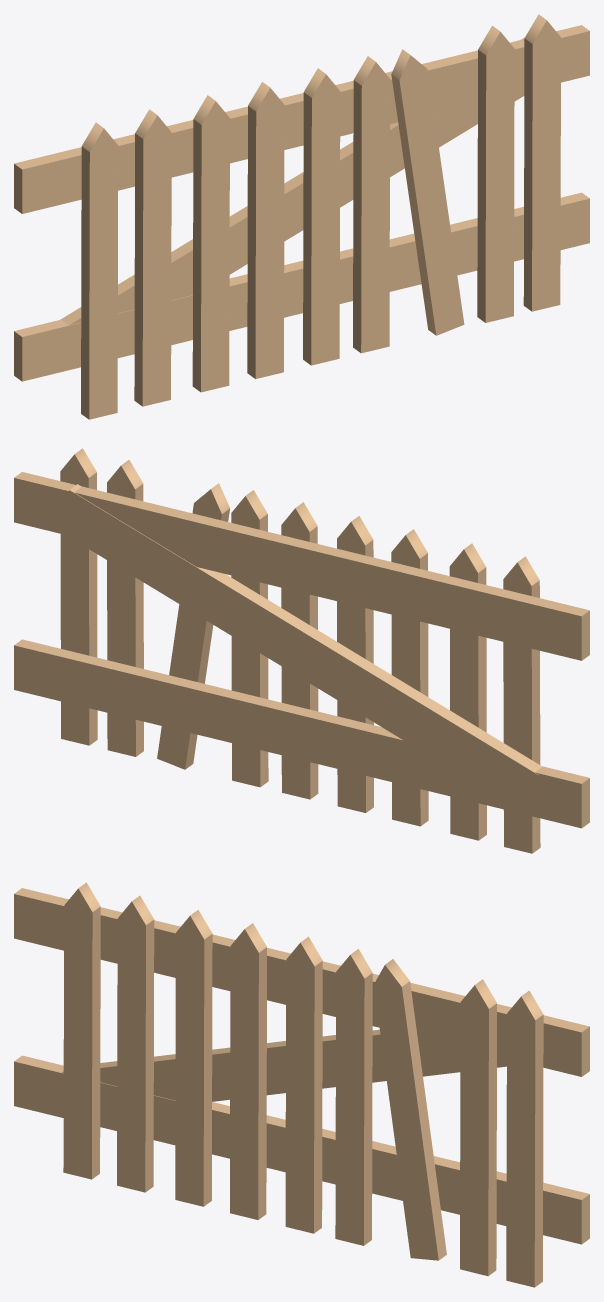
Rendered from ZaunA.fbx.
3 renders of one model, top to bottom at view 1: azimuth 30°, elevation 25°; view 2: azimuth 150°, elevation 25°; view 3: azimuth 330°, elevation 25°, orthographic.
Parts seen in each view (by area): view 1: Planke1, Planke2, Pfahl5, Pfahl2, Pfahl9, Pfahl8, Pfahl10, Pfahl1, Pfahl7, Pfahl4, Pfahl6, Planke3; view 2: Planke1, Planke2, Planke3, Pfahl4, Pfahl1, Pfahl5, Pfahl2, Pfahl10, Pfahl6, Pfahl8, Pfahl7, Pfahl9; view 3: Planke1, Planke2, Pfahl6, Pfahl8, Pfahl4, Pfahl1, Pfahl10, Pfahl7, Pfahl2, Pfahl5, Pfahl9, Planke3.
Boxes of the visible parts, <box> form: Planke1: <box>14,25,589,213</box>; Planke2: <box>14,192,589,381</box>; Pfahl5: <box>477,25,514,322</box>; Pfahl2: <box>134,109,171,406</box>; Pfahl9: <box>247,82,284,378</box>; Pfahl8: <box>303,68,340,365</box>; Pfahl10: <box>192,95,229,392</box>; Pfahl1: <box>81,122,118,419</box>; Pfahl7: <box>353,56,390,353</box>; Pfahl4: <box>523,14,560,311</box>; Pfahl6: <box>391,49,464,335</box>; Planke3: <box>60,37,524,325</box>; Planke1: <box>14,472,589,660</box>; Planke2: <box>14,639,589,828</box>; Planke3: <box>55,484,542,813</box>; Pfahl4: <box>60,448,97,745</box>; Pfahl1: <box>503,556,540,853</box>; Pfahl5: <box>107,460,143,756</box>; Pfahl2: <box>449,543,486,840</box>; Pfahl10: <box>391,529,428,826</box>; Pfahl6: <box>157,483,229,769</box>; Pfahl8: <box>281,502,318,799</box>; Pfahl7: <box>231,490,268,787</box>; Pfahl9: <box>337,516,373,812</box>; Planke1: <box>14,888,589,1076</box>; Planke2: <box>14,1055,589,1244</box>; Pfahl6: <box>374,959,446,1260</box>; Pfahl8: <box>285,936,322,1233</box>; Pfahl4: <box>506,990,543,1287</box>; Pfahl1: <box>63,882,100,1179</box>; Pfahl10: <box>175,910,212,1206</box>; Pfahl7: <box>335,949,372,1245</box>; Pfahl2: <box>117,895,154,1192</box>; Pfahl5: <box>460,979,496,1276</box>; Pfahl9: <box>230,923,266,1219</box>; Planke3: <box>61,1029,506,1101</box>.
Size of the model in its own units: 200 by 97.18 by 10.54.
Materials: 1 (1 with a texture image).
